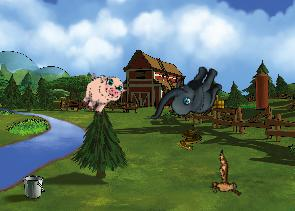eagle: (195, 149, 253, 208)
elephant: (149, 53, 227, 138)
pig: (75, 66, 129, 121)
